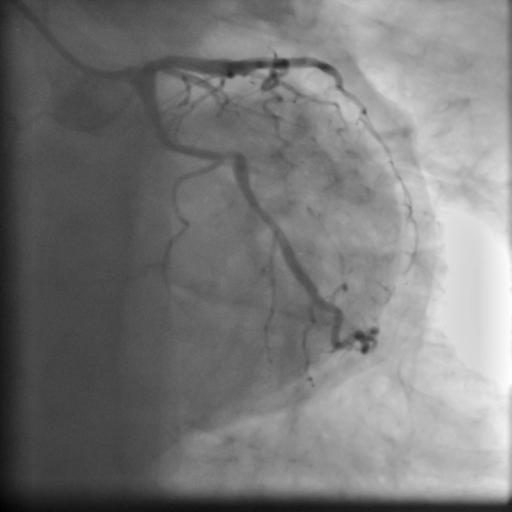Stenosis: (218, 147, 240, 173)
